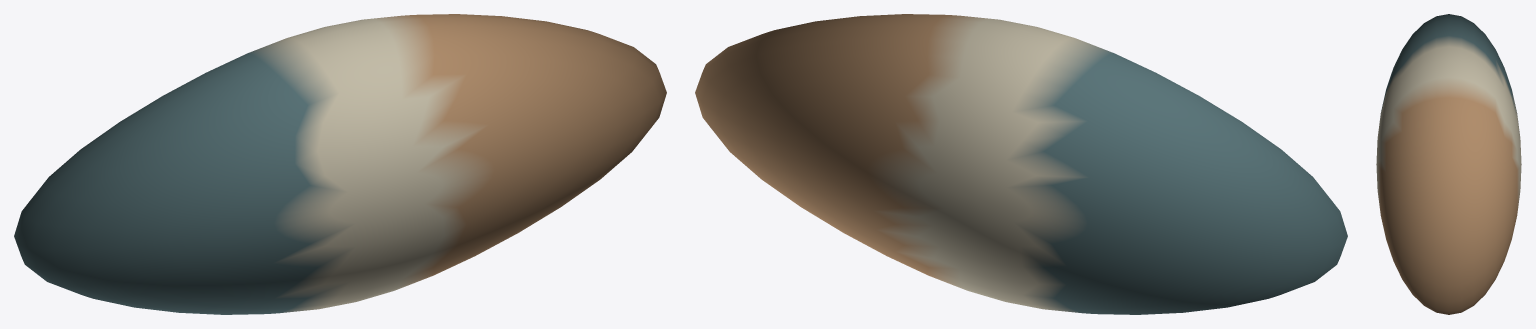
The model's file is demo-abstract-proxy.glb.
The picture shows the model from 3 angles, left to right: view 1: azimuth 30°, elevation 25°; view 2: azimuth 150°, elevation 25°; view 3: azimuth 270°, elevation 25°; orthographic projection. The views are drawn at different scales.
Parts seen in each view (by area): view 1: nonfunctional_museum_visualization; view 2: nonfunctional_museum_visualization; view 3: nonfunctional_museum_visualization.
Boxes of the visible parts, box(x1,y1,x2,y2) form: nonfunctional_museum_visualization: box(14, 14, 666, 314); nonfunctional_museum_visualization: box(695, 14, 1347, 314); nonfunctional_museum_visualization: box(1376, 14, 1521, 314).
Size of the model in its own units: 0.96 by 0.38 by 0.24.
